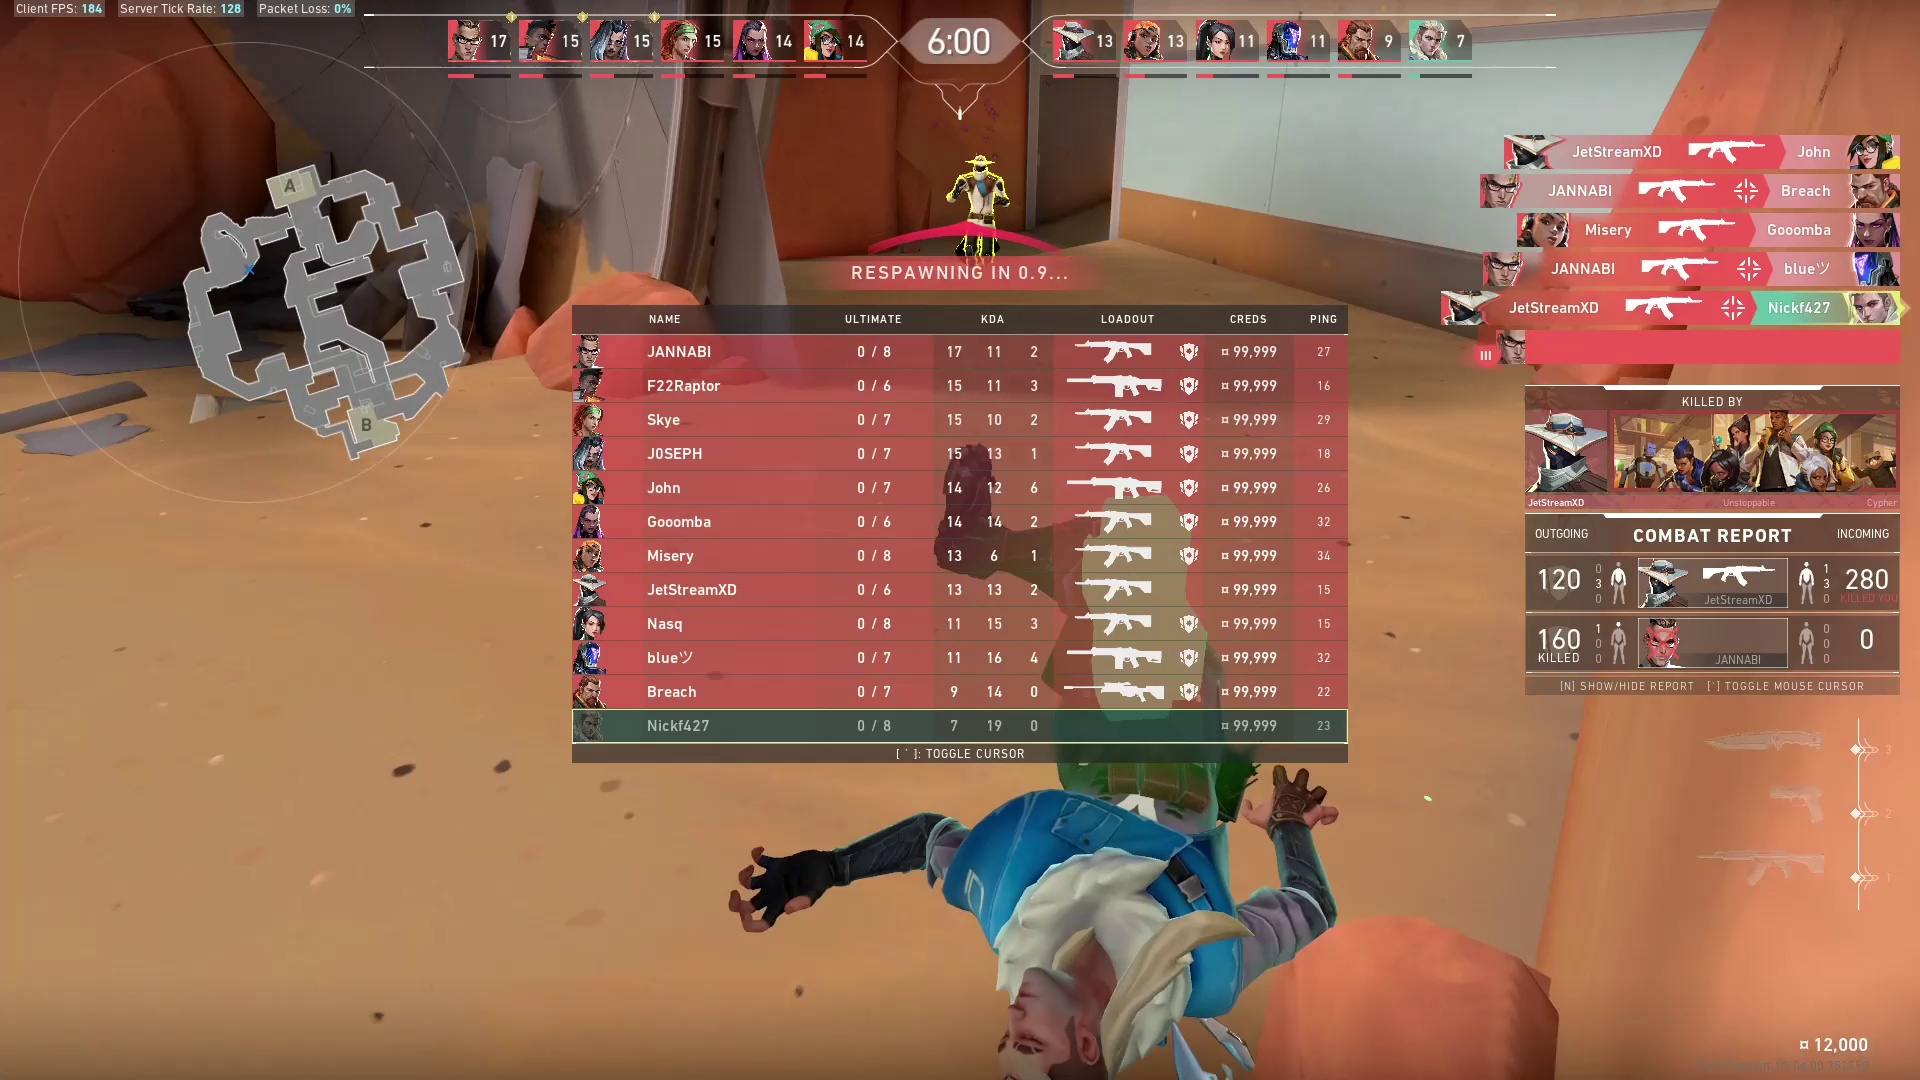enemy_body: (943, 170, 1013, 269)
enemy_head: (962, 145, 998, 177)
